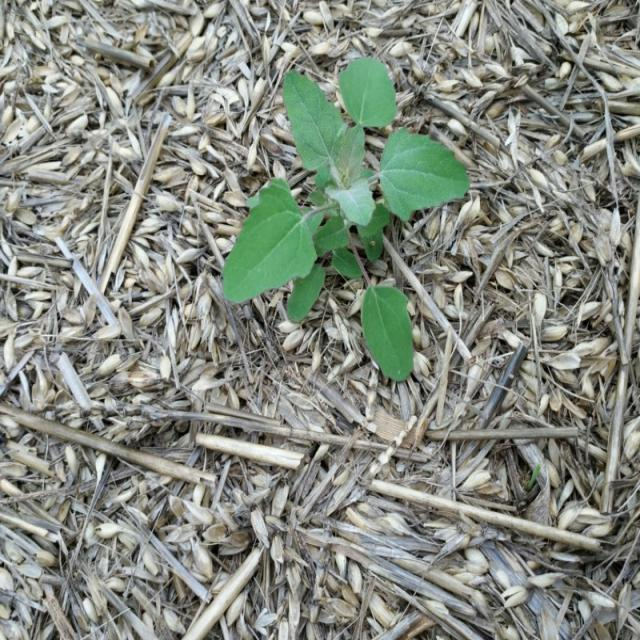goosefoots: (234, 48, 449, 381)
